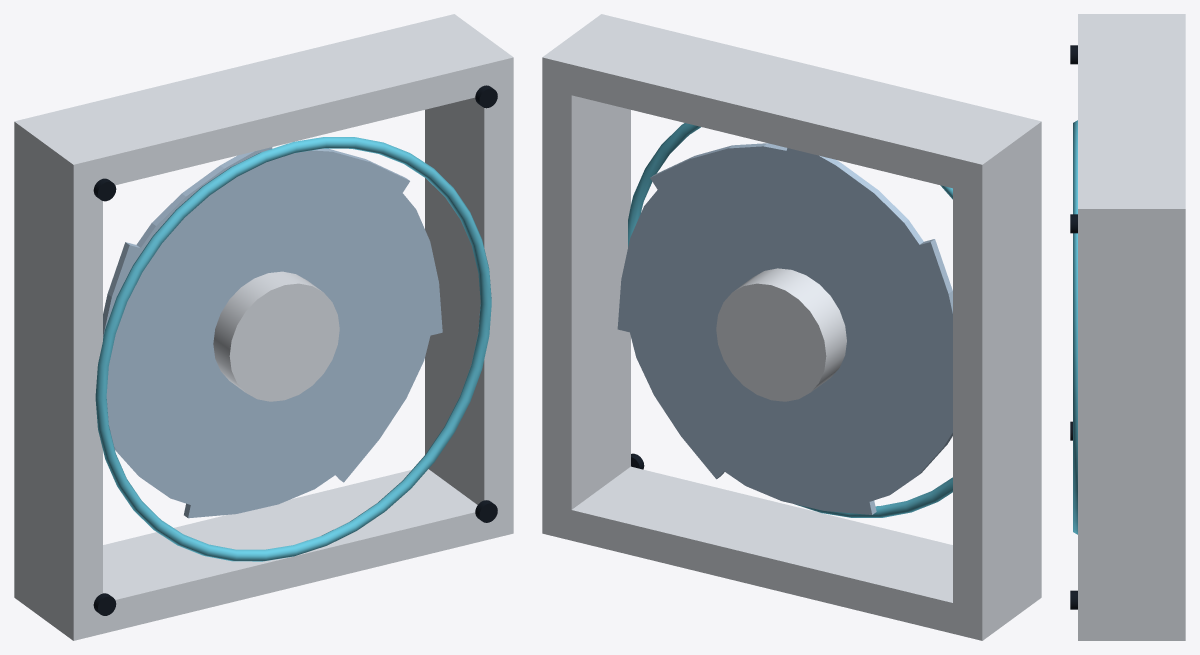
Rendered from retail-lian-li-uni-fan-tl-120-wireless-white.glb.
3 views of the same model, side by side, from view 1: azimuth 30°, elevation 25°; view 2: azimuth 150°, elevation 25°; view 3: azimuth 270°, elevation 25° (orthographic). The views are drawn at different scales.
Visible parts, largest first — view 1: Frame edge (×4), Blade (×7), Intake rim, Motor hub; view 2: Frame edge (×4), Blade (×7), Motor hub, Intake rim; view 3: Frame edge (×3), Intake rim.
Boxes of the visible parts, x1,y1,x2,y2 form: Frame edge (×4): [14, 14, 513, 640]; Blade (×7): [103, 147, 442, 518]; Intake rim: [95, 137, 491, 561]; Motor hub: [213, 271, 339, 401]; Frame edge (×4): [542, 14, 1041, 640]; Blade (×7): [617, 143, 952, 514]; Motor hub: [716, 268, 846, 401]; Intake rim: [628, 123, 952, 517]; Frame edge (×3): [1078, 14, 1185, 640]; Intake rim: [1073, 120, 1077, 534].
Bounding box in the file's own units: 0.12 × 0.124 × 0.03.
